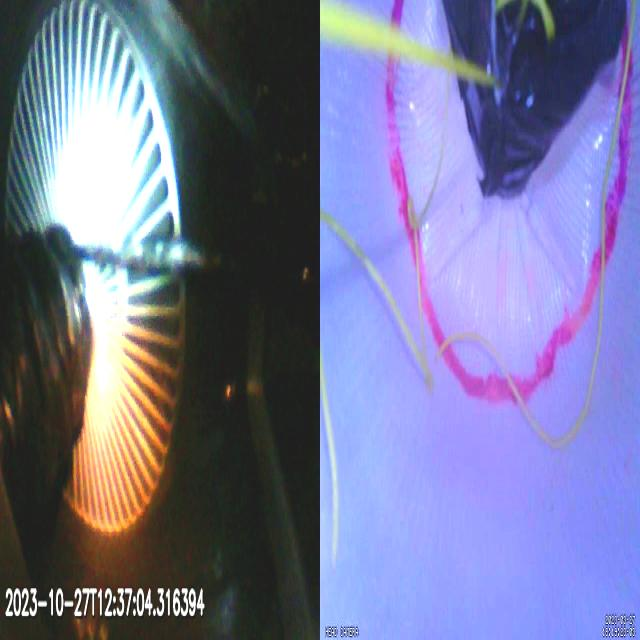red-circle: (384, 4, 634, 401)
